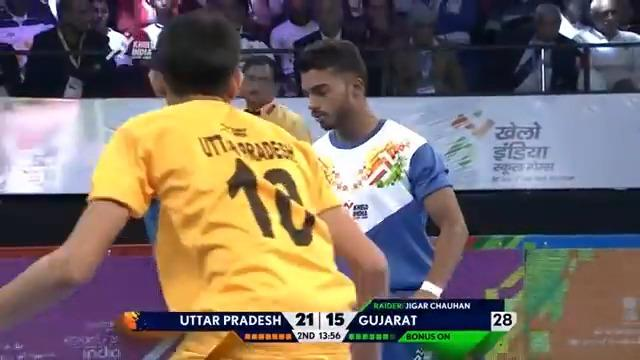Player: (0, 9, 390, 357), (235, 54, 312, 145)
Raider: (294, 36, 470, 302)
referee: (18, 0, 158, 245), (22, 0, 118, 98), (380, 5, 468, 96), (511, 3, 581, 93), (572, 0, 639, 92)
